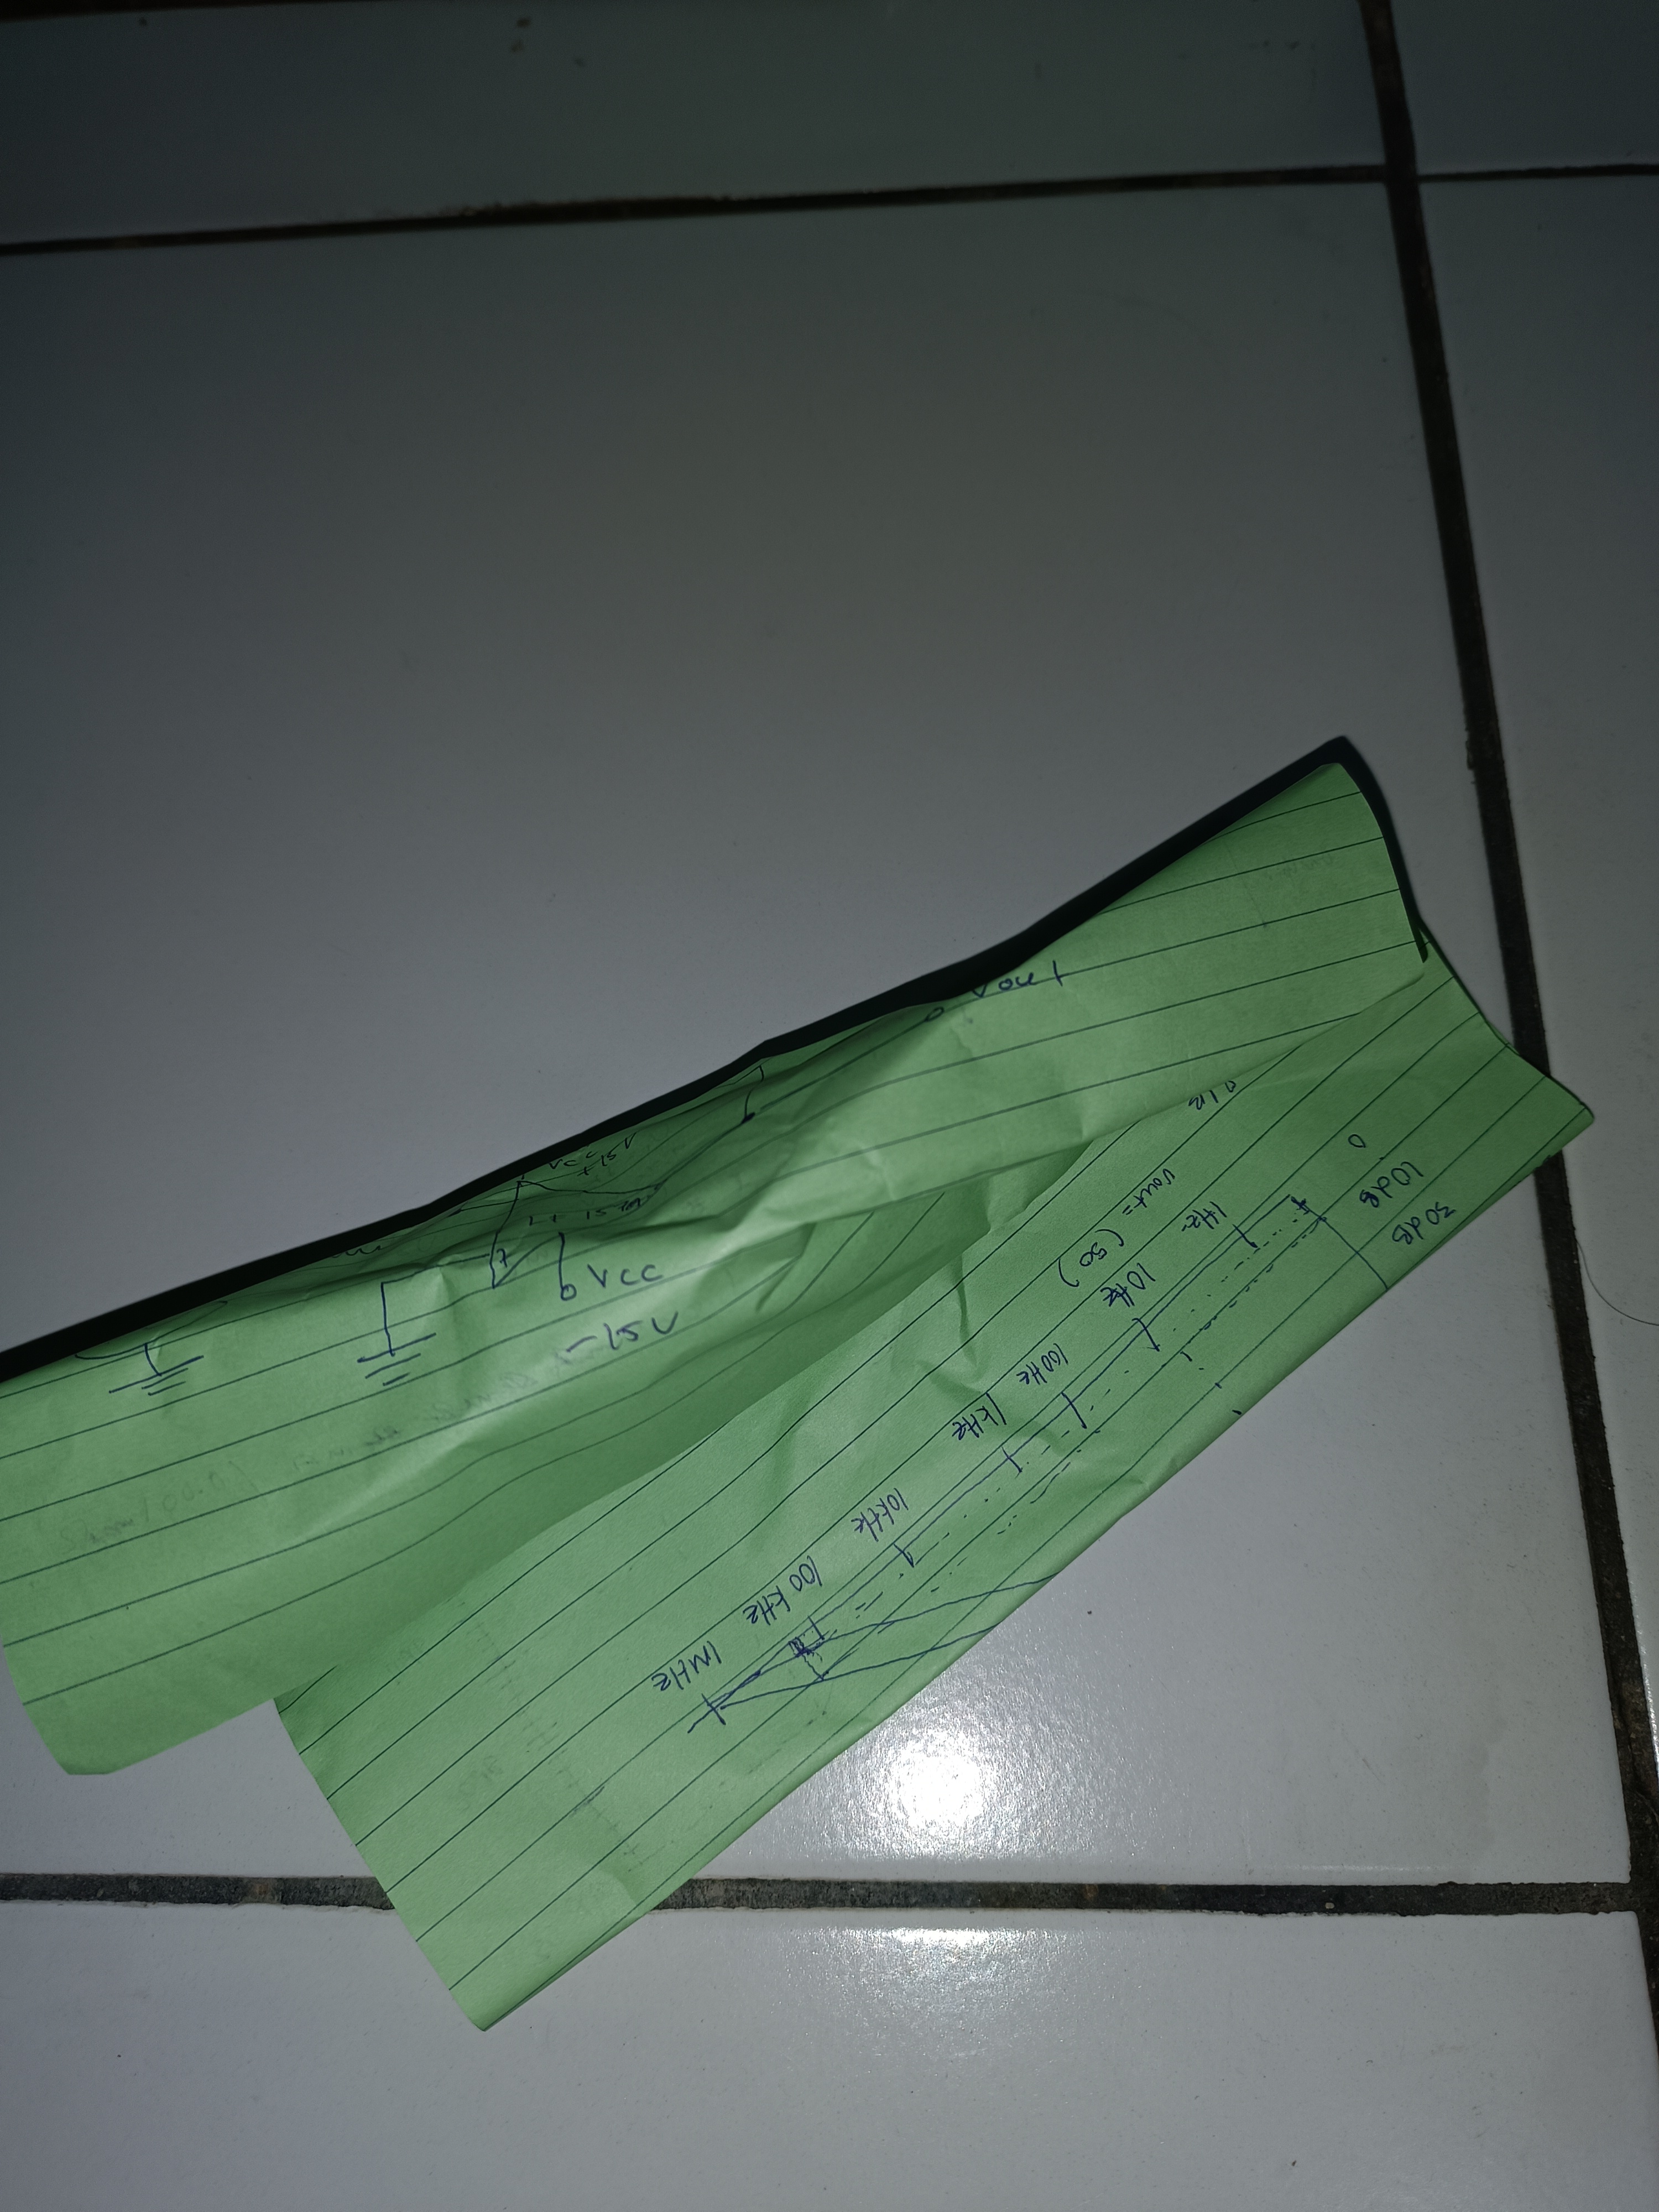Paper: (118, 667, 1582, 2087)
